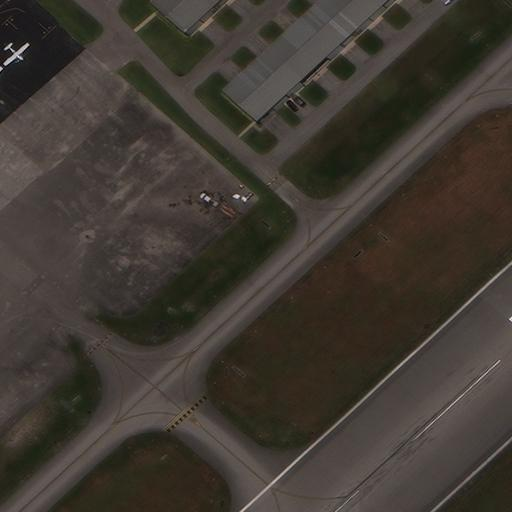Small Civil Transport: (6, 44, 30, 66)
